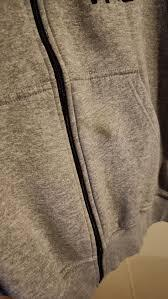mustard: (98, 127, 117, 146)
